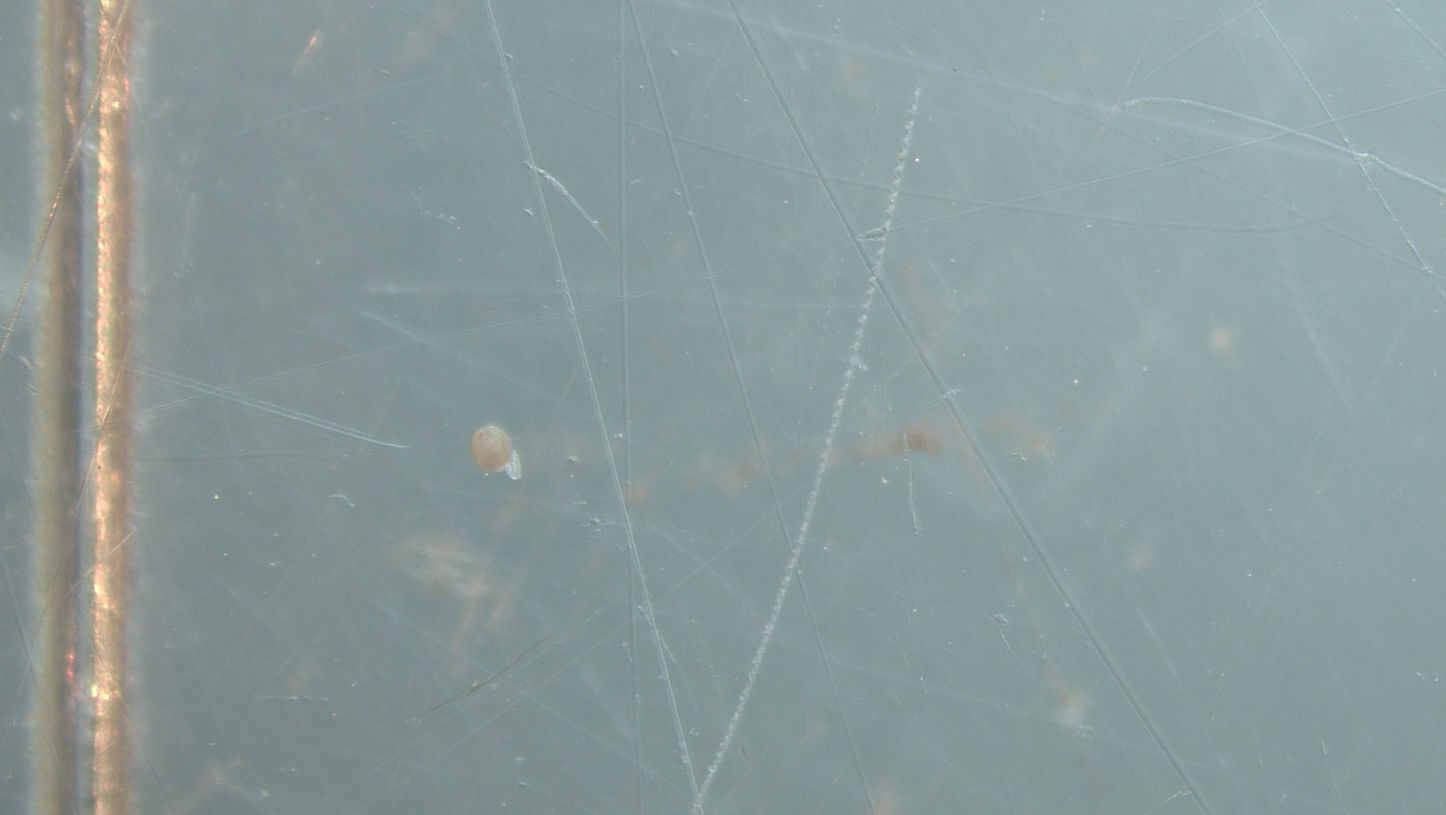live: (471, 426, 521, 480)
